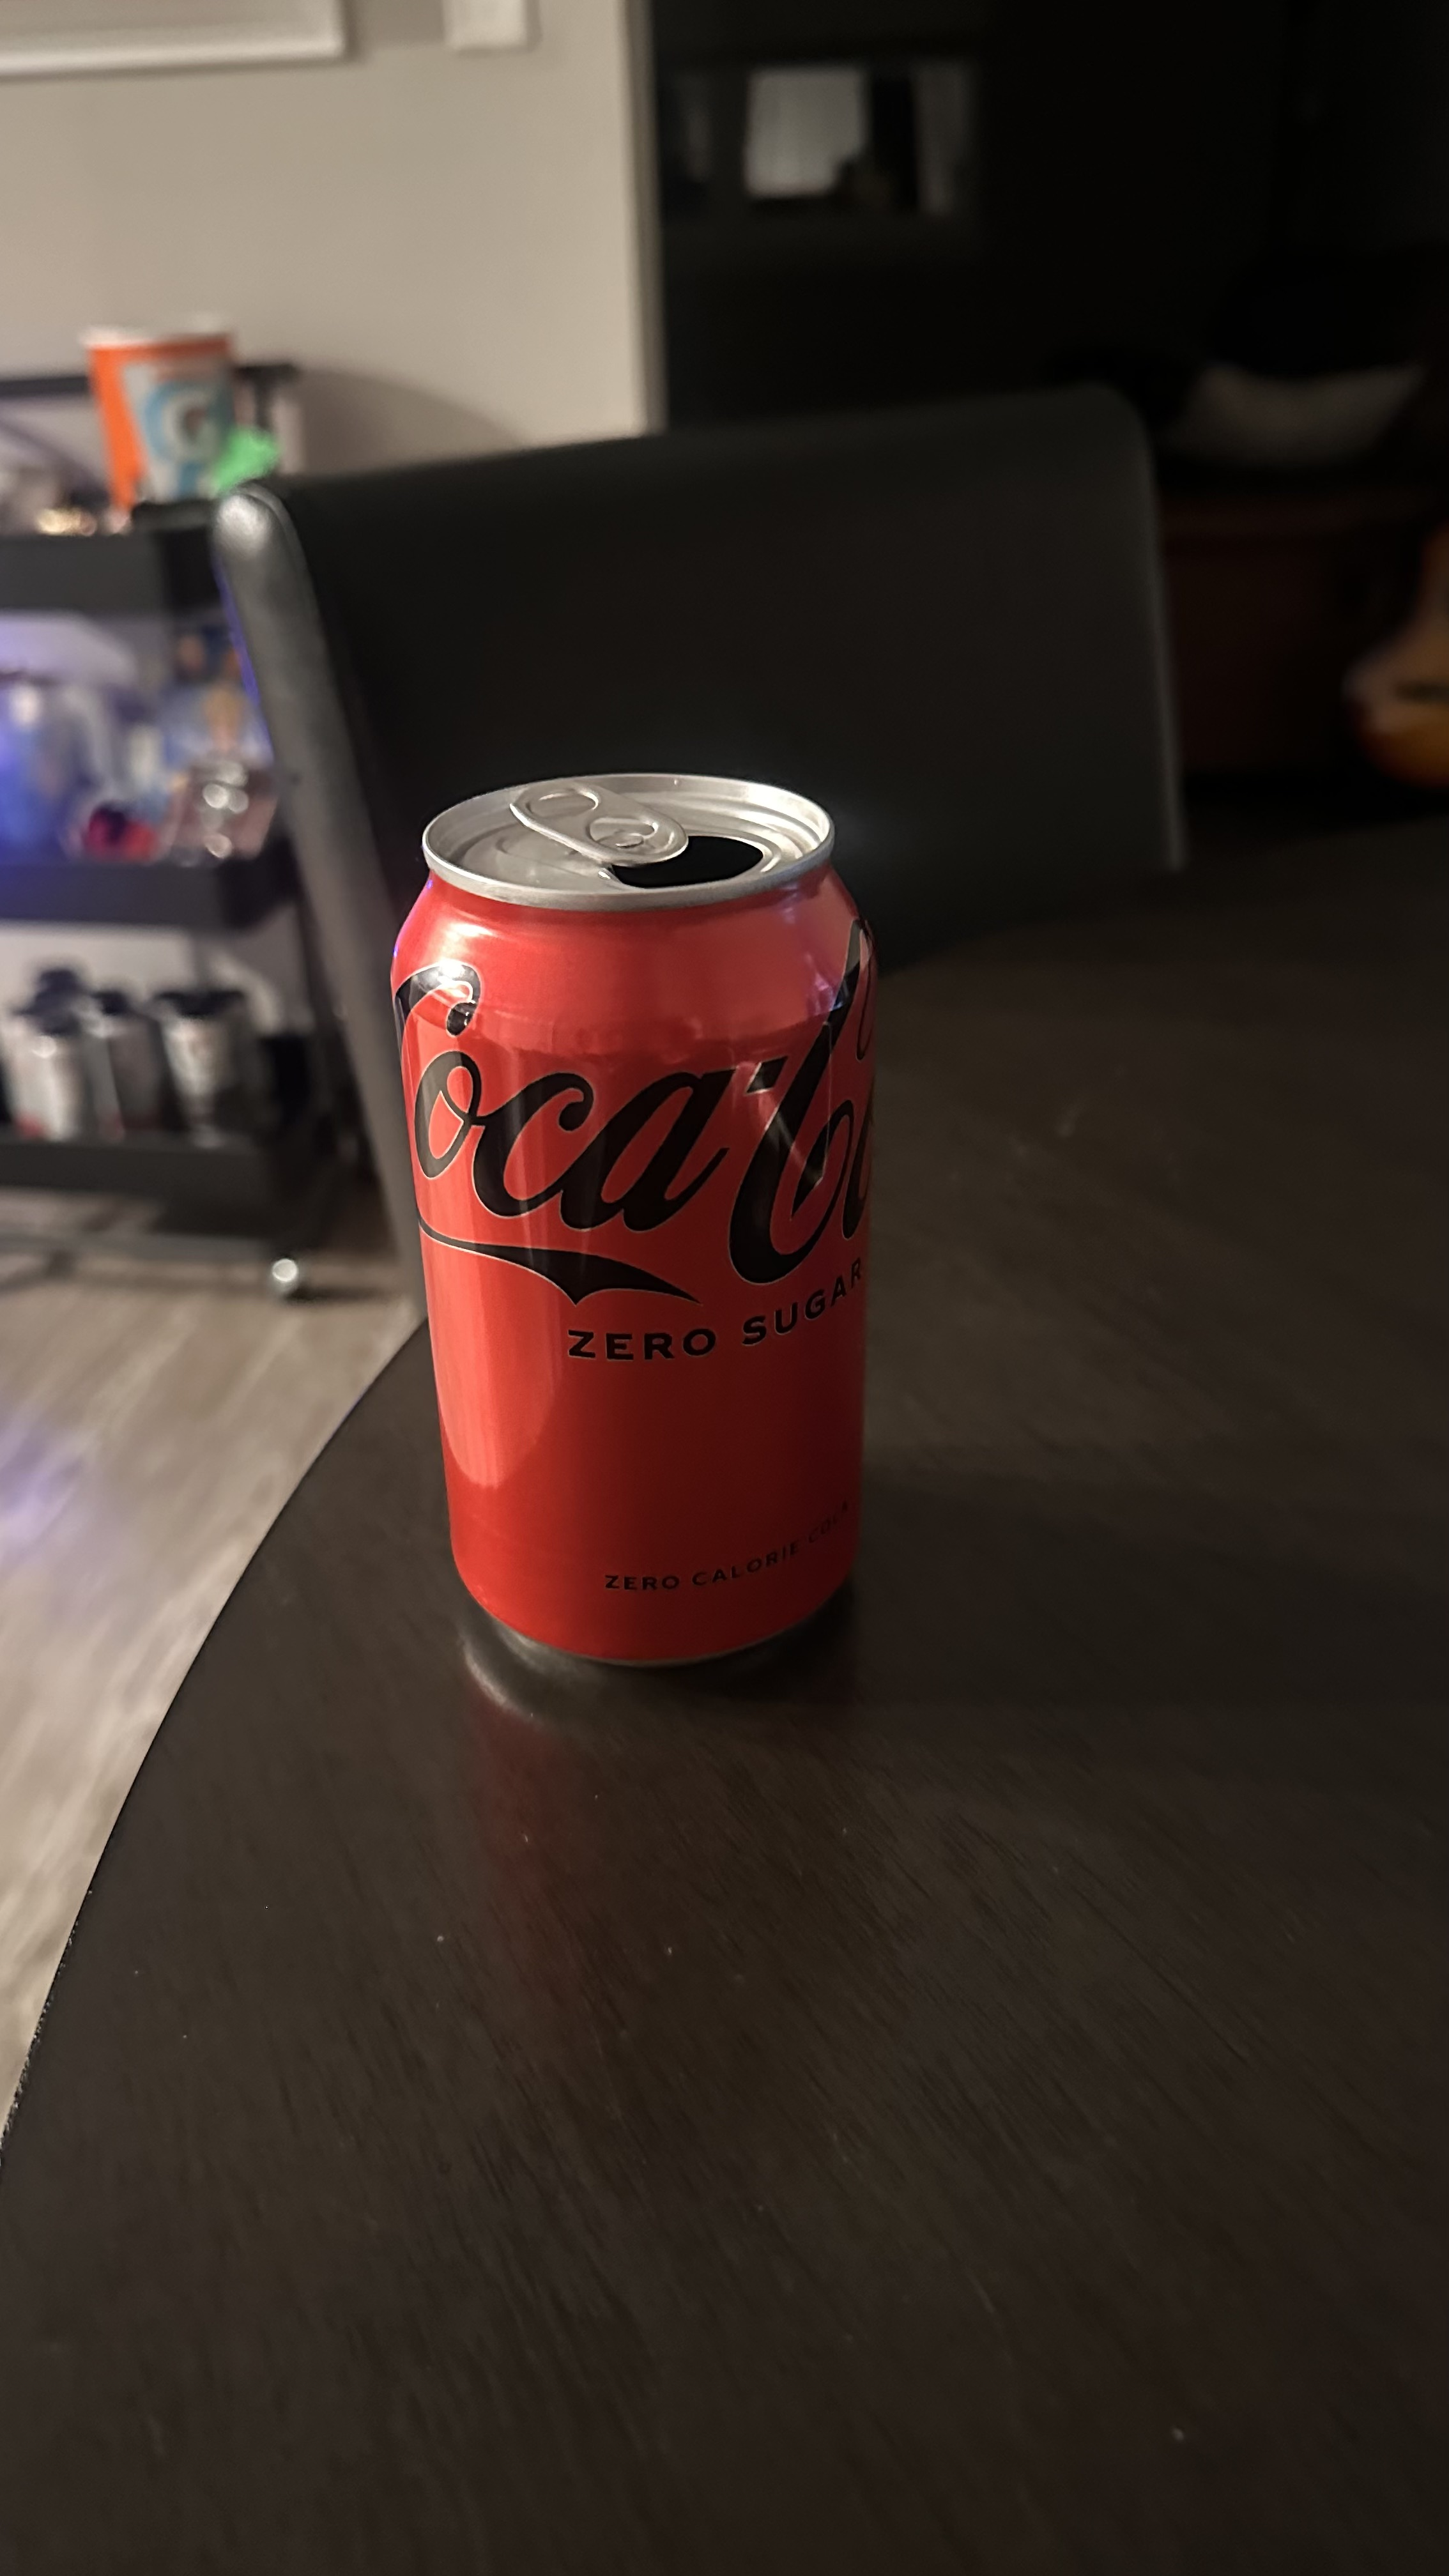Coke Zero: (387, 759, 924, 1684)
